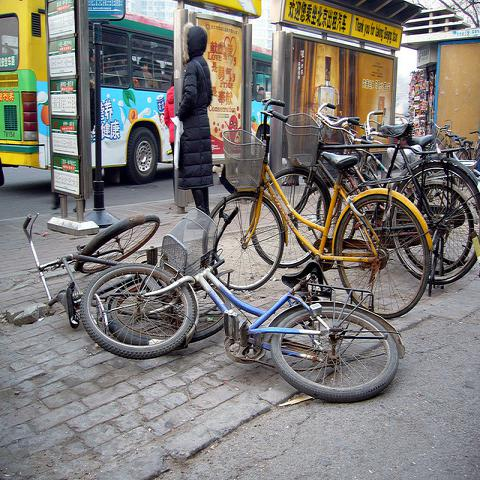bus: (0, 1, 272, 184)
